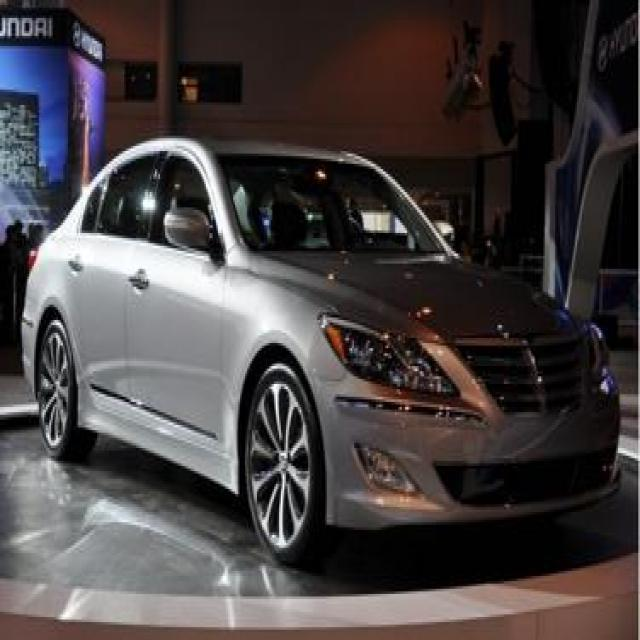Car: (22, 73, 577, 639)
